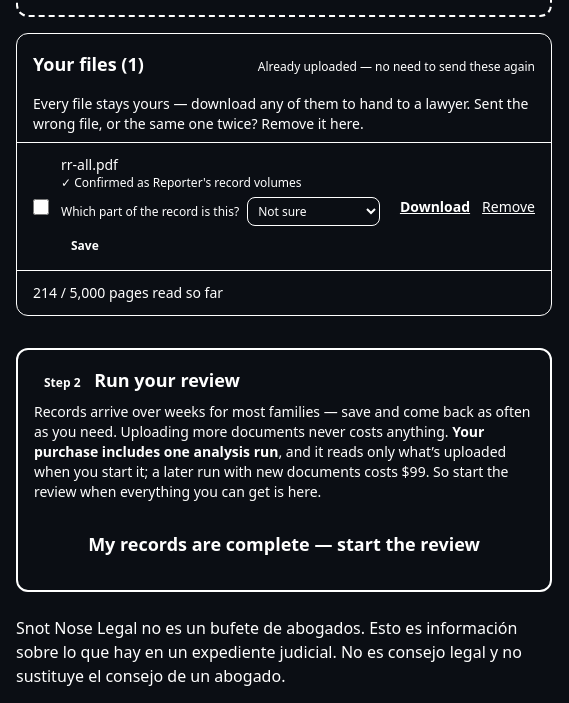
it: documents page — overage offer card (K2) › renders in Spanish with the same numbers
(page scrolled)
What coordinates should you click on to do the following:
click the button "My records are complete — start the review"
I would click on:
 (284, 544)
Its box is top-left (34, 514), bottom-right (534, 574).
(page scrolled)
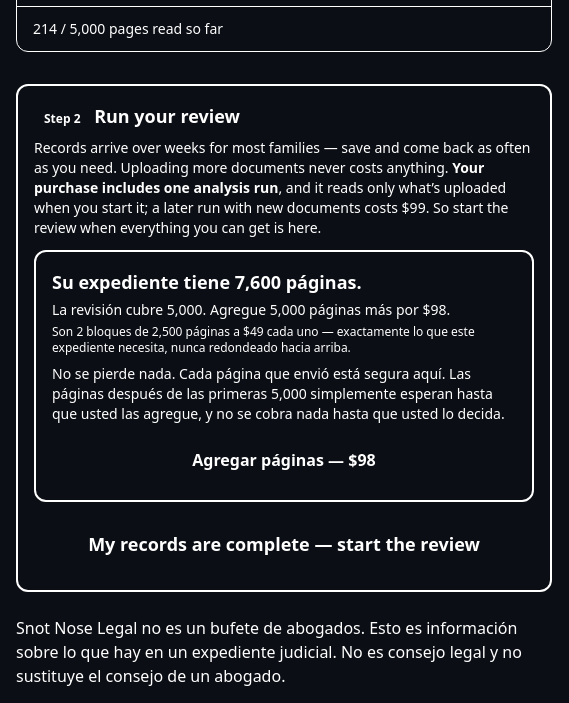
Check: the element with test id "overage-card" shows "Su expediente tiene 7,600 páginas.", box top-left (52, 270), bottom-right (362, 294)
Check: the element with test id "overage-card" shows "La revisión cubre 5,000. Agregue 5,000 páginas más por $98.", box top-left (52, 300), bottom-right (450, 319)
Check: the element with test id "overage-card" shows "No se pierde nada", box top-left (52, 364), bottom-right (505, 423)
